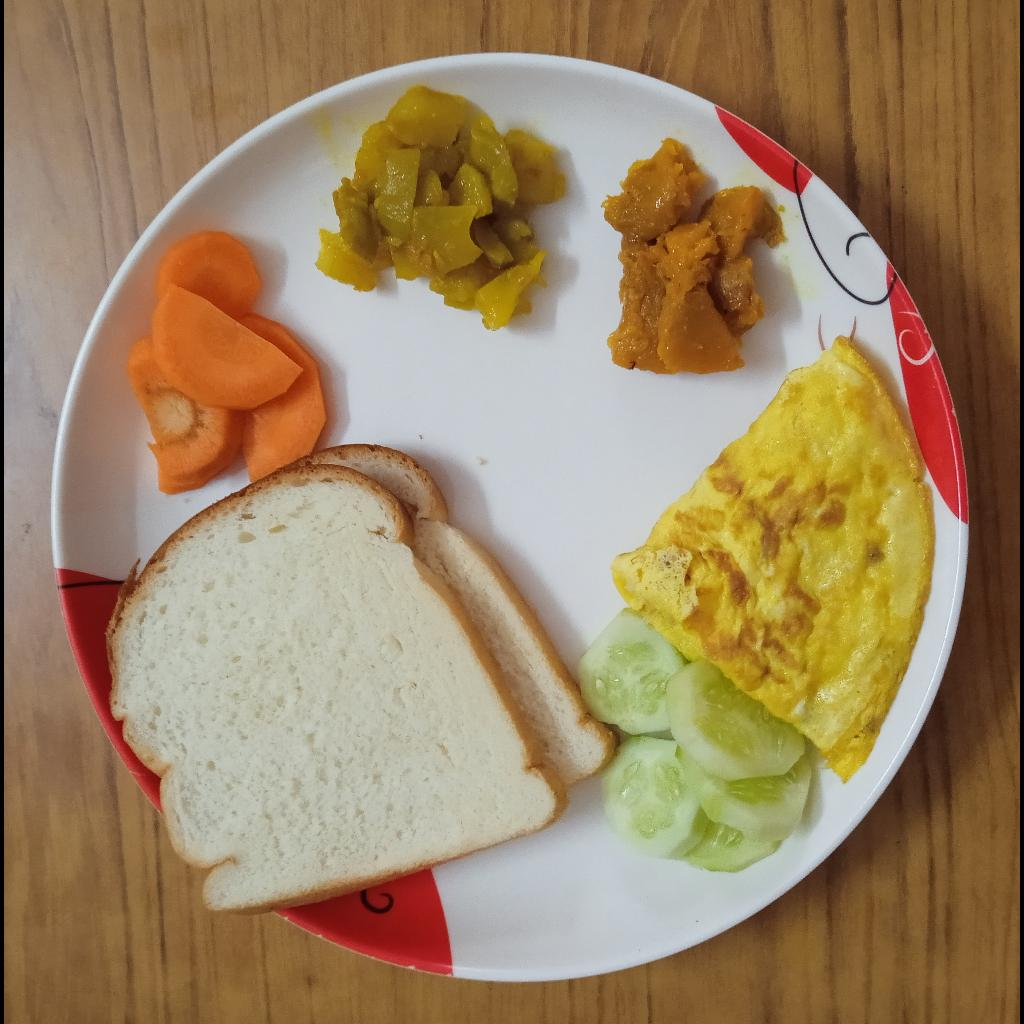bread: (107, 441, 621, 922)
carrot: (123, 231, 329, 494)
cucumber: (572, 613, 813, 879)
egg: (611, 334, 941, 789)
kumra-vaji: (600, 130, 787, 379)
potol: (314, 84, 566, 334)
